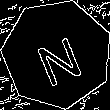N_N: (28, 23, 86, 85)
